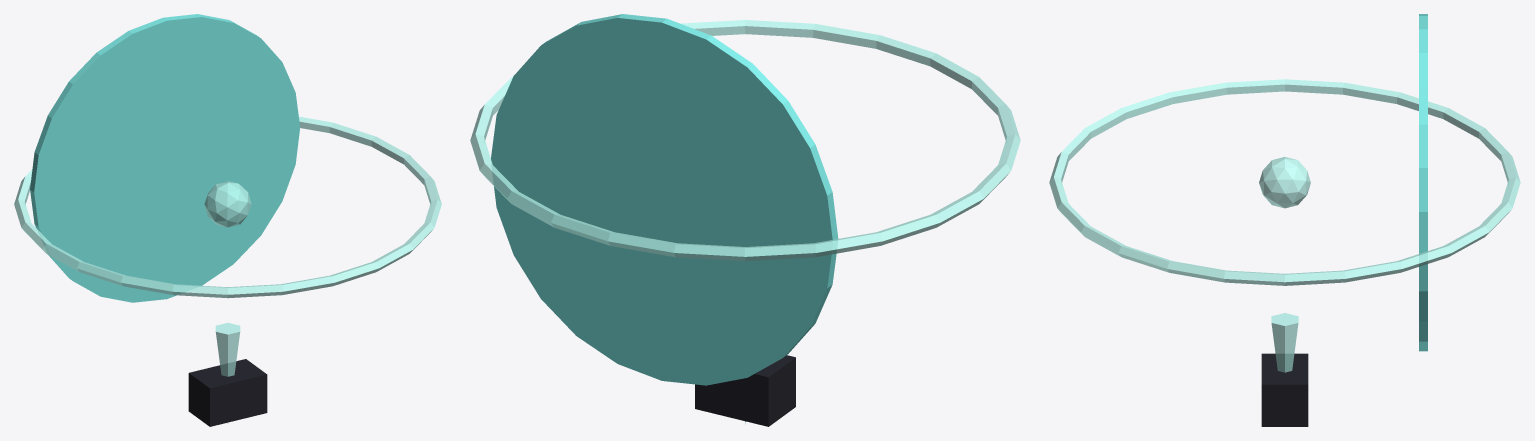
The model's file is 05_combat_start_camera_rig.glb.
The picture shows the model from 3 angles, left to right: view 1: azimuth 30°, elevation 25°; view 2: azimuth 150°, elevation 25°; view 3: azimuth 270°, elevation 25°; orthographic projection. The views are drawn at different scales.
Parts seen in each view (by area): view 1: combat_start_trigger_disc, camera_orbit_track, camera_proxy, target_focus_point, look_vector; view 2: combat_start_trigger_disc, camera_orbit_track, camera_proxy; view 3: camera_orbit_track, camera_proxy, combat_start_trigger_disc, target_focus_point, look_vector.
Boxes of the visible parts, <box> form: combat_start_trigger_disc: <box>30,14,300,302</box>; camera_orbit_track: <box>14,116,441,298</box>; camera_proxy: <box>188,359,267,426</box>; target_focus_point: <box>204,181,251,227</box>; look_vector: <box>215,322,240,423</box>; combat_start_trigger_disc: <box>491,14,838,385</box>; camera_orbit_track: <box>470,20,1020,261</box>; camera_proxy: <box>695,355,795,426</box>; camera_orbit_track: <box>1049,79,1520,285</box>; camera_proxy: <box>1261,353,1308,426</box>; combat_start_trigger_disc: <box>1419,14,1427,351</box>; target_focus_point: <box>1259,157,1310,208</box>; look_vector: <box>1271,313,1298,372</box>.
Size of the model in its own units: 1.81 by 1.68 by 1.81.
